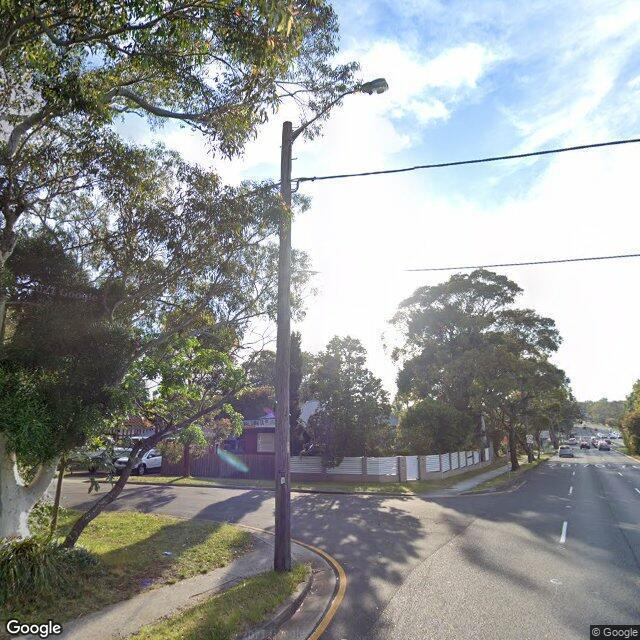streetlight: (289, 77, 389, 142)
timber-pole: (274, 120, 293, 574)
